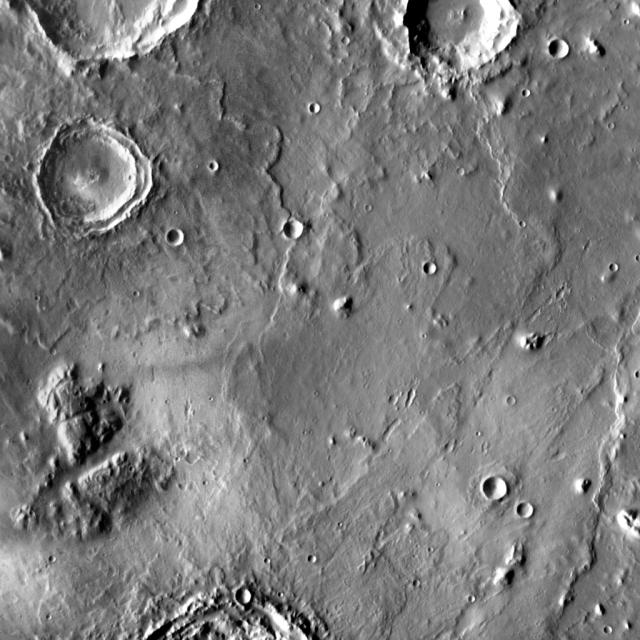crater: (16, 0, 212, 64), (37, 120, 151, 228), (118, 601, 333, 640), (404, 0, 520, 72), (482, 476, 508, 500), (549, 39, 569, 59), (284, 220, 304, 239), (167, 228, 184, 246), (517, 503, 533, 518), (236, 588, 251, 604), (549, 188, 563, 202), (187, 452, 200, 464), (424, 262, 436, 274), (282, 209, 291, 223), (309, 103, 320, 113), (291, 73, 301, 83), (444, 442, 454, 452), (389, 395, 398, 405), (506, 396, 516, 405), (178, 482, 188, 490), (209, 162, 219, 170), (197, 228, 206, 236), (408, 389, 416, 398), (610, 263, 618, 272), (556, 292, 564, 300), (49, 348, 57, 356), (128, 174, 136, 182), (5, 155, 13, 163), (604, 626, 612, 634), (522, 89, 530, 97), (308, 555, 316, 563), (394, 418, 401, 426), (371, 550, 378, 558), (481, 443, 488, 451), (454, 439, 462, 446), (413, 579, 420, 587), (457, 168, 465, 175), (342, 37, 350, 44), (289, 65, 296, 72), (193, 60, 200, 67), (406, 398, 412, 406), (635, 370, 640, 379), (554, 332, 560, 339), (49, 556, 56, 562), (468, 596, 475, 602), (583, 246, 589, 252), (530, 332, 536, 338), (75, 391, 81, 397), (300, 624, 306, 630), (283, 332, 289, 338), (394, 0, 400, 6), (584, 564, 590, 570), (133, 291, 139, 297), (318, 481, 324, 487), (46, 614, 52, 620), (608, 122, 614, 128), (520, 221, 526, 227), (264, 558, 270, 564), (366, 205, 372, 211), (439, 394, 444, 400), (588, 628, 593, 634), (126, 212, 131, 218), (330, 478, 336, 483), (99, 492, 105, 497), (538, 284, 544, 289), (29, 511, 35, 516), (350, 428, 356, 433), (175, 457, 181, 462), (203, 480, 208, 486), (255, 4, 261, 9), (308, 54, 313, 60), (608, 545, 614, 550), (418, 410, 424, 415), (48, 474, 54, 479), (482, 118, 488, 123), (474, 562, 479, 567), (398, 391, 403, 396), (133, 352, 138, 357), (260, 453, 265, 458), (579, 146, 584, 151), (463, 289, 468, 294), (312, 418, 317, 423), (36, 568, 41, 573), (442, 343, 447, 348), (368, 248, 373, 253), (633, 299, 638, 304), (480, 520, 485, 525), (278, 592, 283, 597), (428, 547, 433, 552), (26, 380, 32, 384), (504, 219, 510, 223), (262, 416, 268, 420), (624, 20, 630, 24), (636, 255, 640, 261), (459, 360, 464, 364), (562, 442, 566, 447), (552, 68, 557, 72), (499, 328, 503, 333), (364, 383, 368, 388), (447, 413, 451, 418), (402, 161, 407, 165), (436, 482, 440, 487), (348, 411, 352, 416), (562, 282, 567, 286), (399, 277, 403, 282), (35, 296, 40, 300), (520, 111, 524, 116), (382, 30, 387, 34), (130, 467, 134, 472), (522, 234, 527, 238), (324, 213, 328, 218), (413, 554, 418, 558), (632, 148, 636, 153), (302, 431, 307, 435), (45, 564, 50, 568), (387, 448, 392, 452), (583, 56, 588, 60), (422, 334, 427, 338), (623, 106, 628, 110), (552, 408, 557, 412), (102, 553, 106, 557), (410, 476, 414, 480), (29, 387, 33, 391), (165, 400, 169, 404), (309, 430, 313, 434), (581, 390, 585, 394), (471, 449, 475, 453), (536, 622, 540, 626), (395, 406, 399, 410), (491, 397, 495, 401), (209, 397, 213, 401), (416, 544, 420, 548), (314, 392, 318, 396), (244, 459, 248, 463), (338, 522, 342, 526), (476, 432, 480, 436)
